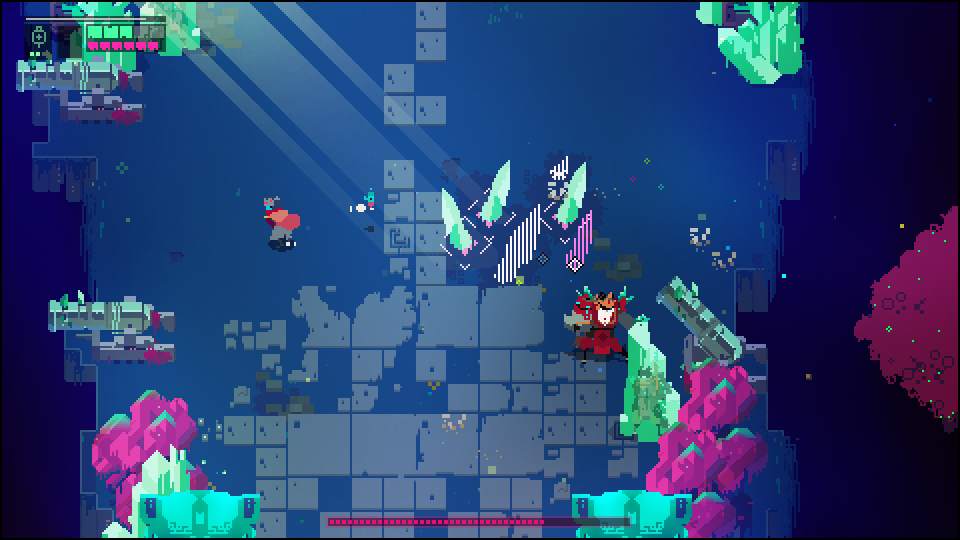hanged_crys: (497, 204, 541, 284), (559, 160, 589, 227), (565, 210, 597, 271), (484, 157, 508, 223), (441, 187, 466, 250)
hanged_man: (564, 284, 642, 363)
player: (261, 193, 308, 250)
